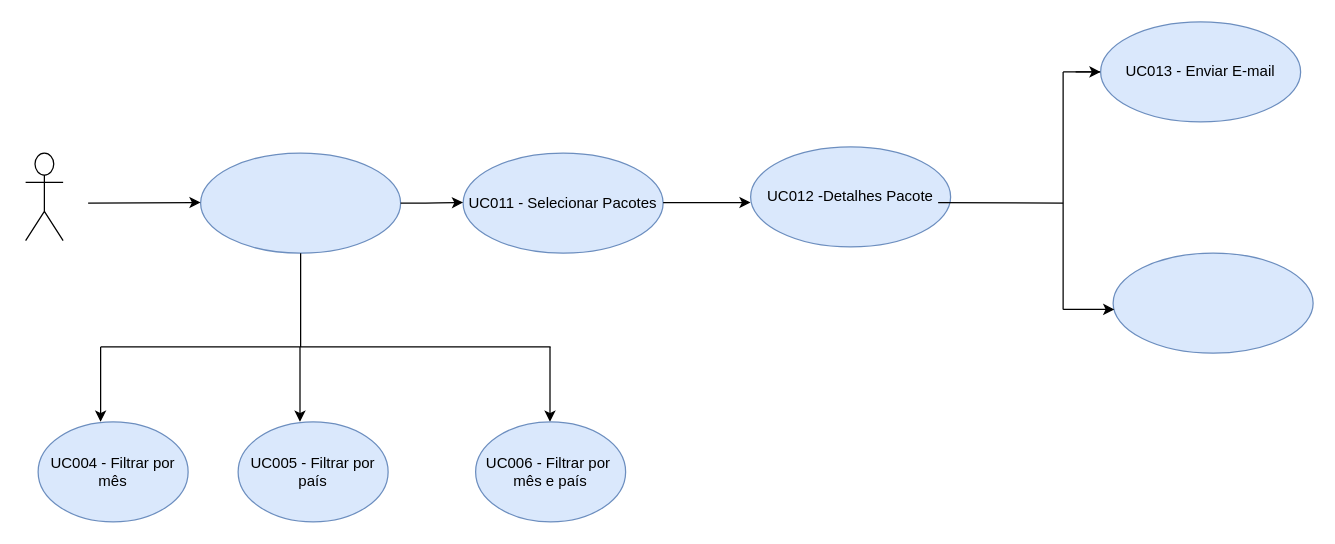
Image size: 1335x544. Some labels were removed from this diagram. The centre of each missing label's shape, as x and y in pixels:
"Cliente" goes at point 43,196.
"UC010 - Visualizar Pacotes" goes at point 300,202.
"UC014 - Efetuar ligação" goes at point 1212,302.
